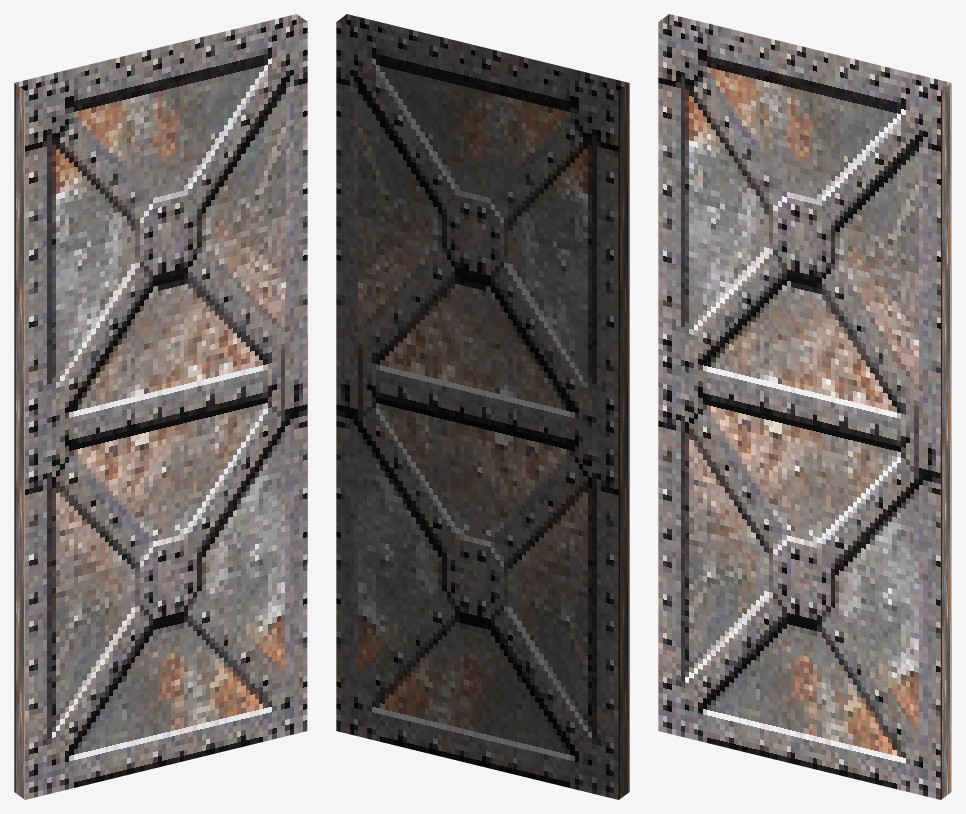
File: Psteel_door3Z.obj
3 views of the same model, side by side, from view 1: azimuth 30°, elevation 25°; view 2: azimuth 150°, elevation 25°; view 3: azimuth 330°, elevation 25° (orthographic).
Size of the model in its own units: 876 by 2100 by 58.
Materials: 9 (9 with a texture image).
